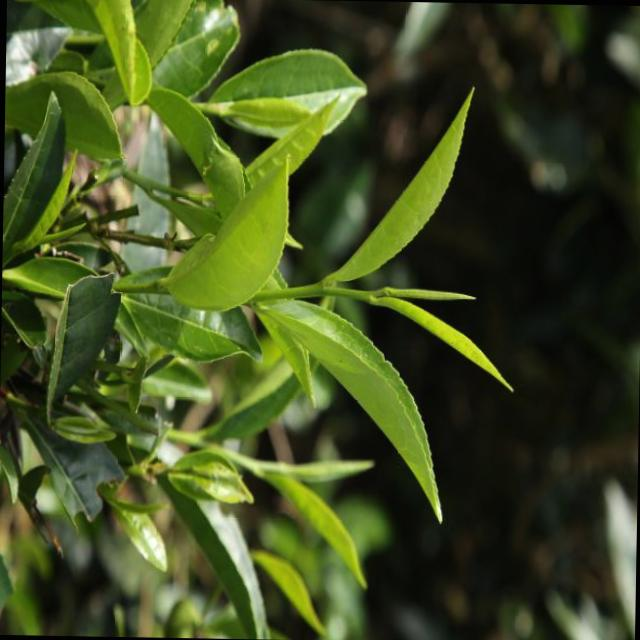Stem: (284, 278, 323, 298), (237, 454, 257, 471)
